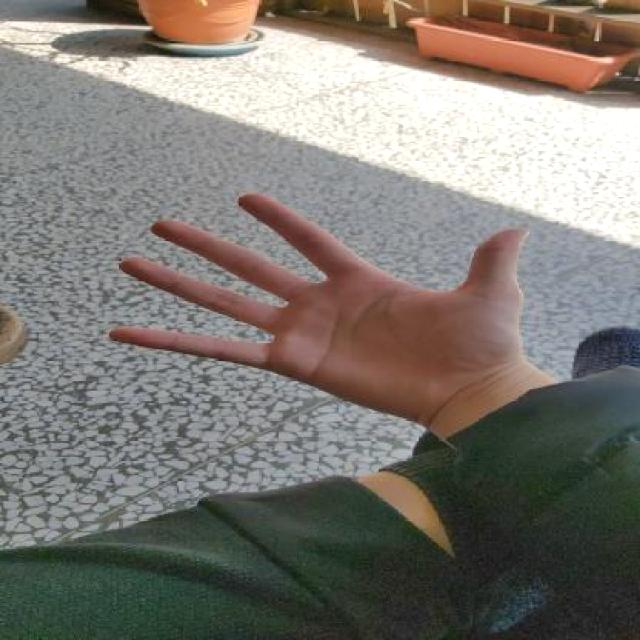no_glove: (82, 177, 550, 432)
